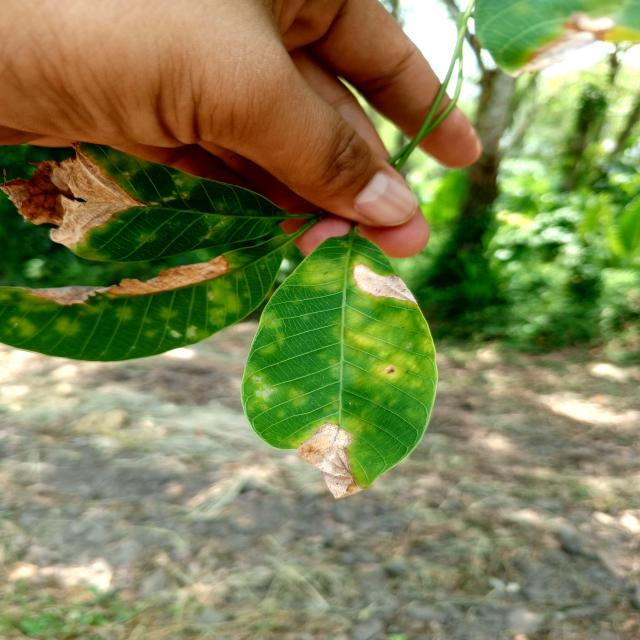Leaf-Blight: (0, 141, 149, 248), (13, 254, 230, 305), (295, 422, 365, 499), (352, 263, 418, 305)
